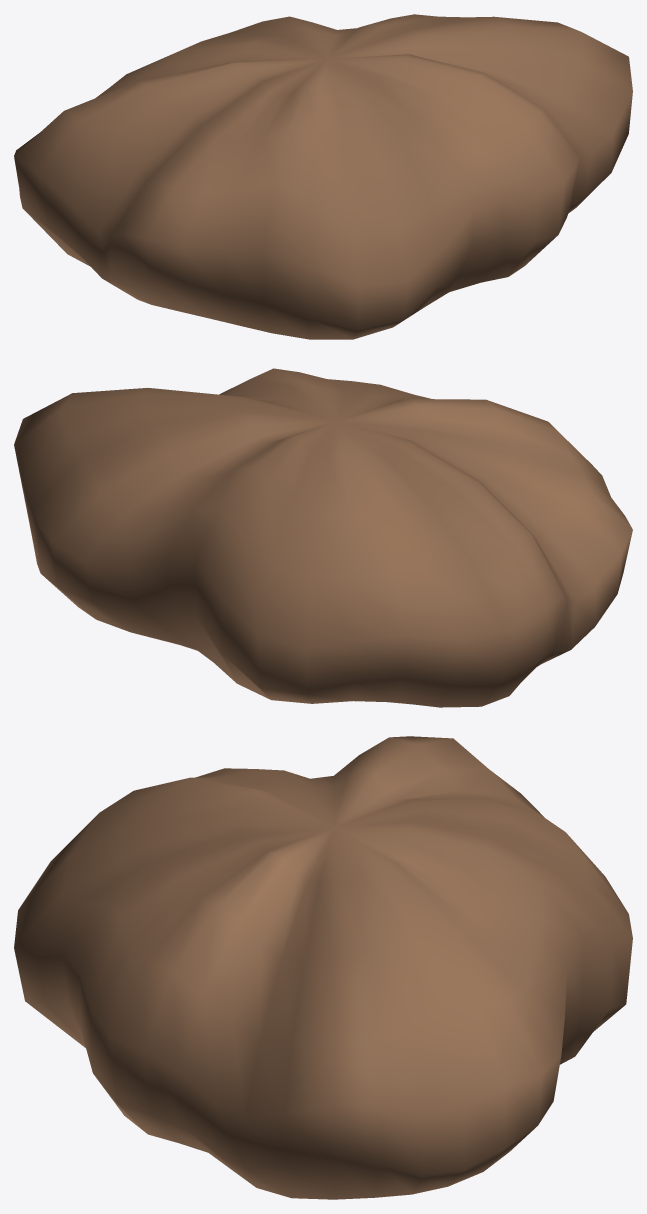
File: clay_stock.glb
3 views of the same model, one above another, from view 1: azimuth 30°, elevation 25°; view 2: azimuth 150°, elevation 25°; view 3: azimuth 270°, elevation 25° (orthographic). The views are drawn at different scales.
Visible parts, largest first — view 1: clay_stock; view 2: clay_stock; view 3: clay_stock.
Part boxes in pixels (x1,y1,x2,y2): clay_stock: (14, 14, 632, 339); clay_stock: (14, 368, 632, 707); clay_stock: (14, 736, 632, 1199).
Bounding box in the file's own units: 0.1854 × 0.0653 × 0.1415.
